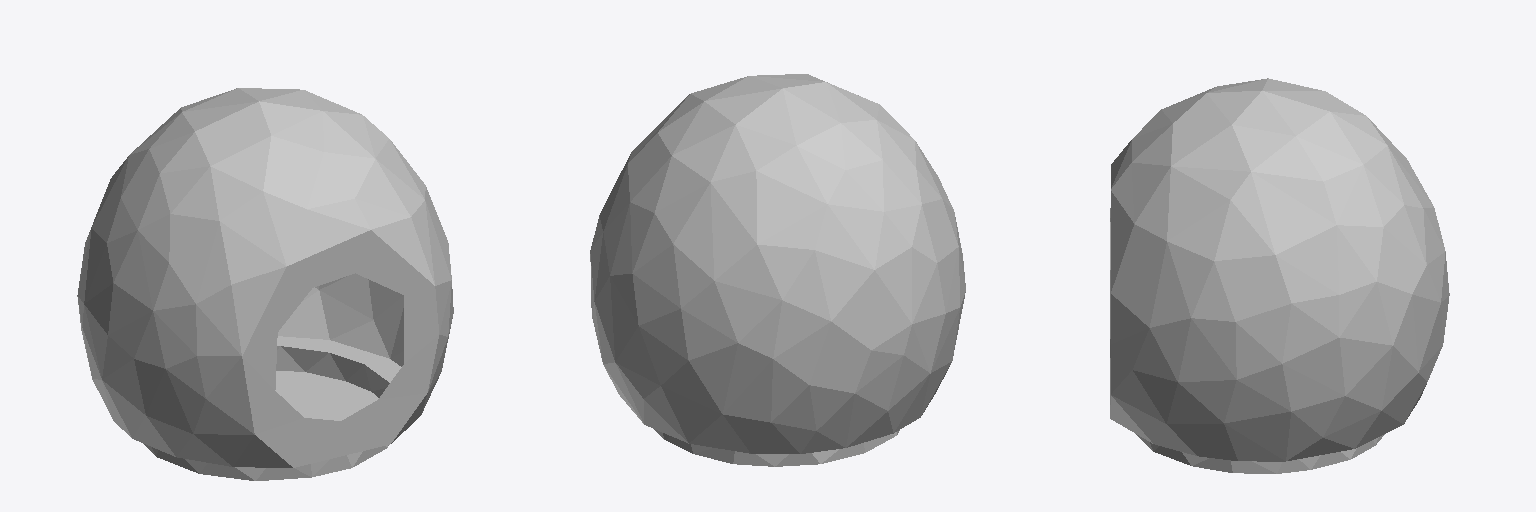
File: col-kuka-link6.obj
The picture shows the model from 3 angles: view 1: azimuth 30°, elevation 25°; view 2: azimuth 150°, elevation 25°; view 3: azimuth 270°, elevation 25°; orthographic projection.
Bounding box in the file's own units: 143 × 136 × 129.